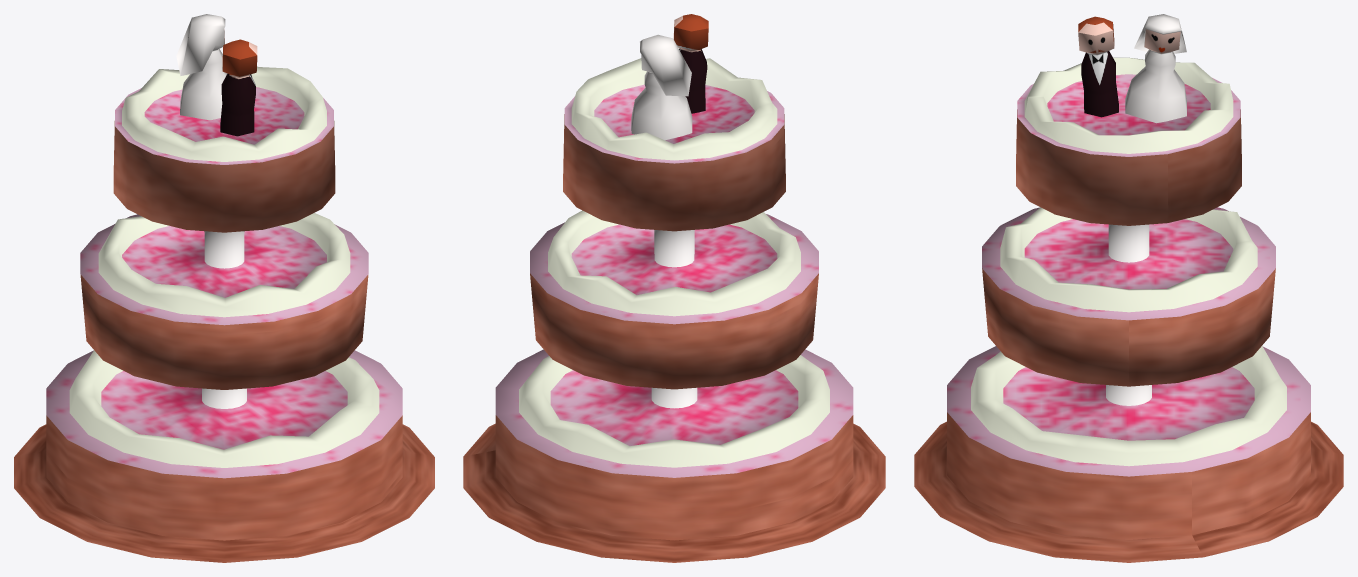
File: GGJbryllupskage.FBX
3 renders of one model, left to right at view 1: azimuth 30°, elevation 25°; view 2: azimuth 150°, elevation 25°; view 3: azimuth 270°, elevation 25°, orthographic. The views are drawn at different scales.
Parts seen in each view (by area): view 1: bryllupskage, brudepar; view 2: bryllupskage, brudepar; view 3: bryllupskage, brudepar.
Part boxes in pixels (x1,y1,x2,y2): bryllupskage: [14, 66, 434, 562]; brudepar: [176, 14, 257, 136]; bryllupskage: [463, 58, 885, 562]; brudepar: [631, 14, 708, 140]; bryllupskage: [914, 57, 1343, 562]; brudepar: [1078, 14, 1186, 123].
Size of the model in its own units: 47.12 by 53.95 by 46.4.
2 materials, 2 textured.
